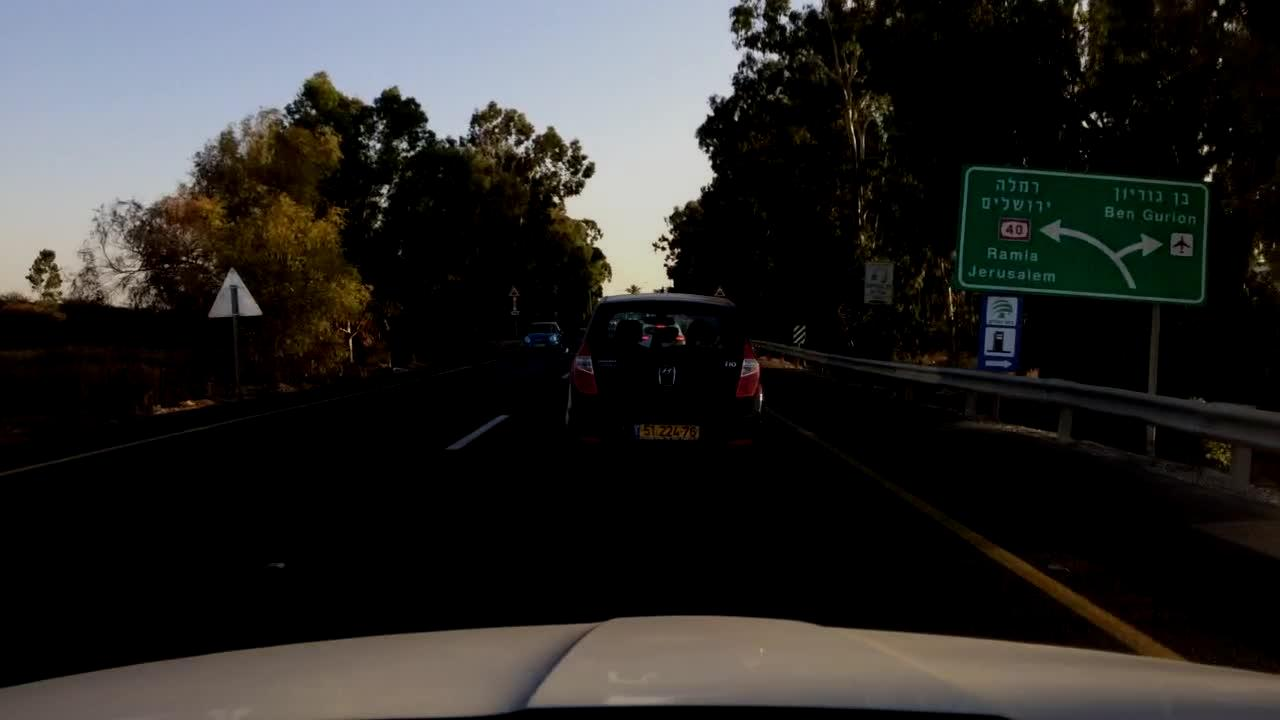Hyundai: (650, 360, 681, 379)
